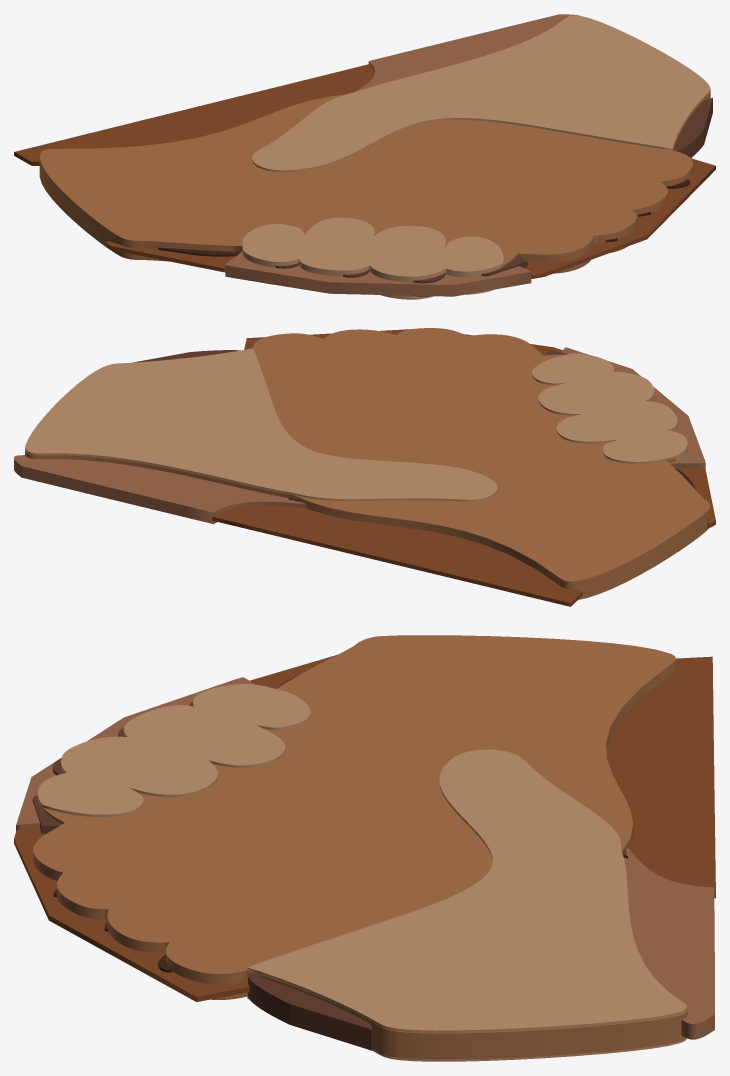
The model's file is emoji_u1faf1_1f3fe_200d_1faf2_1f3fd.glb.
The picture shows the model from 3 angles, top to bottom: view 1: azimuth 30°, elevation 25°; view 2: azimuth 150°, elevation 25°; view 3: azimuth 270°, elevation 25°; orthographic projection. The views are drawn at different scales.
Parts seen in each view (by area): view 1: emoji_u1faf1_1f3fe_200d_1faf2_1f3fd; view 2: emoji_u1faf1_1f3fe_200d_1faf2_1f3fd; view 3: emoji_u1faf1_1f3fe_200d_1faf2_1f3fd.
Boxes of the visible parts, x1,y1,x2,y2 form: emoji_u1faf1_1f3fe_200d_1faf2_1f3fd: [14, 14, 715, 299]; emoji_u1faf1_1f3fe_200d_1faf2_1f3fd: [14, 328, 715, 606]; emoji_u1faf1_1f3fe_200d_1faf2_1f3fd: [14, 635, 715, 1061].
Bounding box in the file's own units: 0.0332 × 0.0012 × 0.0244.
